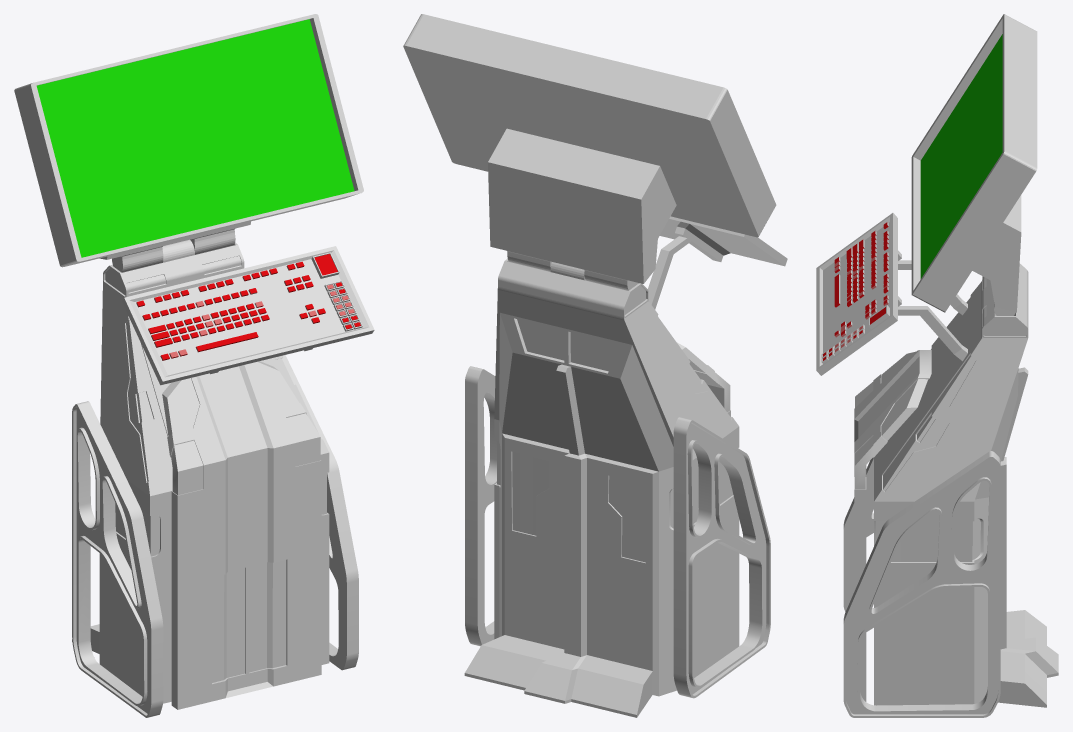
The model's file is terminal.fbx.
3 views of the same model, side by side, from view 1: azimuth 30°, elevation 25°; view 2: azimuth 150°, elevation 25°; view 3: azimuth 270°, elevation 25° (orthographic). The views are drawn at different scales.
Parts seen in each view (by area): view 1: Monitor, Face Plate, Cylinder, keyboard, Support; view 2: Cylinder, Monitor, Support, keyboard, Face Plate; view 3: Cylinder, Monitor, Support, keyboard, Face Plate.
Part boxes in pixels (x1=…): Monitor: x1=14, y1=14, x2=363, y2=272; Face Plate: x1=162, y1=361, x2=321, y2=709; Cylinder: x1=72, y1=239, x2=329, y2=703; keyboard: x1=122, y1=246, x2=374, y2=385; Support: x1=72, y1=355, x2=358, y2=717; Cylinder: x1=464, y1=259, x2=739, y2=717; Monitor: x1=403, y1=14, x2=776, y2=290; Support: x1=465, y1=366, x2=770, y2=698; keyboard: x1=647, y1=216, x2=787, y2=309; Face Plate: x1=676, y1=342, x2=730, y2=416; Cylinder: x1=874, y1=263, x2=1058, y2=707; Monitor: x1=911, y1=14, x2=1037, y2=315; Support: x1=843, y1=451, x2=1000, y2=717; keyboard: x1=816, y1=213, x2=967, y2=375; Face Plate: x1=854, y1=350, x2=931, y2=701.
Bounding box in the file's own units: 74.52 × 147 × 54.71.
